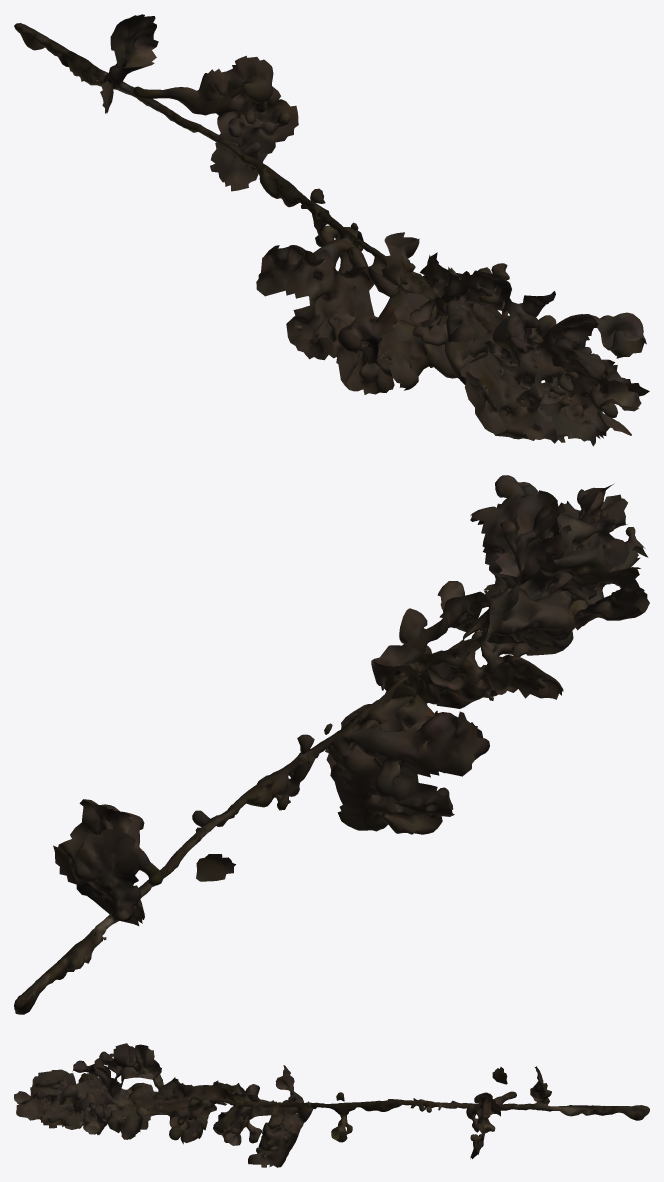
File: tree_mesh.dae
3 views of the same model, one above another, from view 1: azimuth 30°, elevation 25°; view 2: azimuth 150°, elevation 25°; view 3: azimuth 270°, elevation 25° (orthographic). The views are drawn at different scales.
Parts seen in each view (by area): view 1: node0; view 2: node0; view 3: node0.
Boxes of the visible parts, left/top/right/bottom form: node0: left=14, top=14, right=649, bottom=446; node0: left=14, top=475, right=649, bottom=1014; node0: left=14, top=1043, right=649, bottom=1167.
Bounding box in the file's own units: 5.23 × 4.96 × 24.52.
